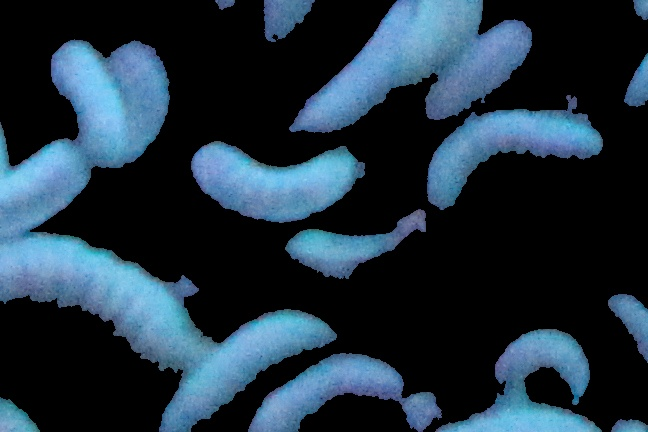larvae: (1, 239, 198, 380), (161, 314, 337, 432), (428, 112, 602, 217), (294, 1, 409, 135), (247, 350, 407, 432), (421, 21, 533, 135), (192, 144, 355, 219), (281, 215, 430, 291), (53, 43, 128, 170), (1, 135, 86, 243), (490, 330, 593, 406), (110, 44, 173, 163), (403, 1, 483, 83)
